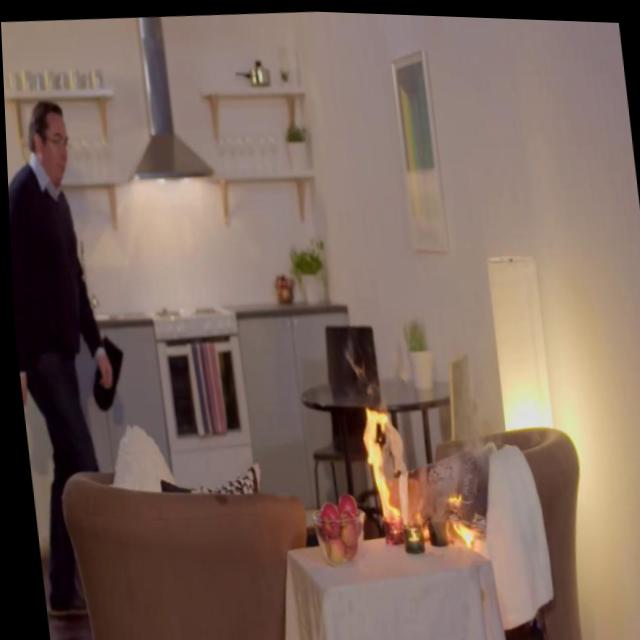fire: (353, 398, 396, 517)
